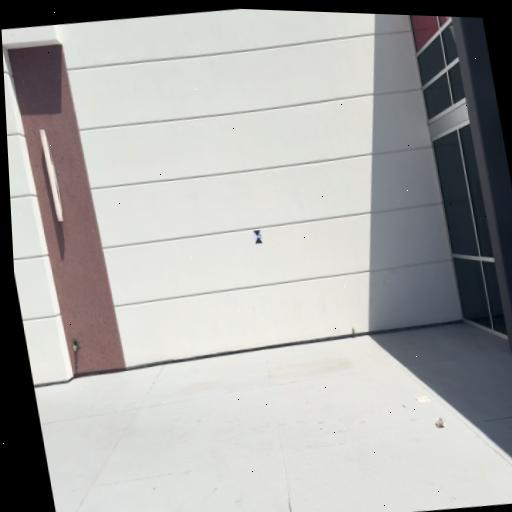target7: (253, 229, 264, 244)
